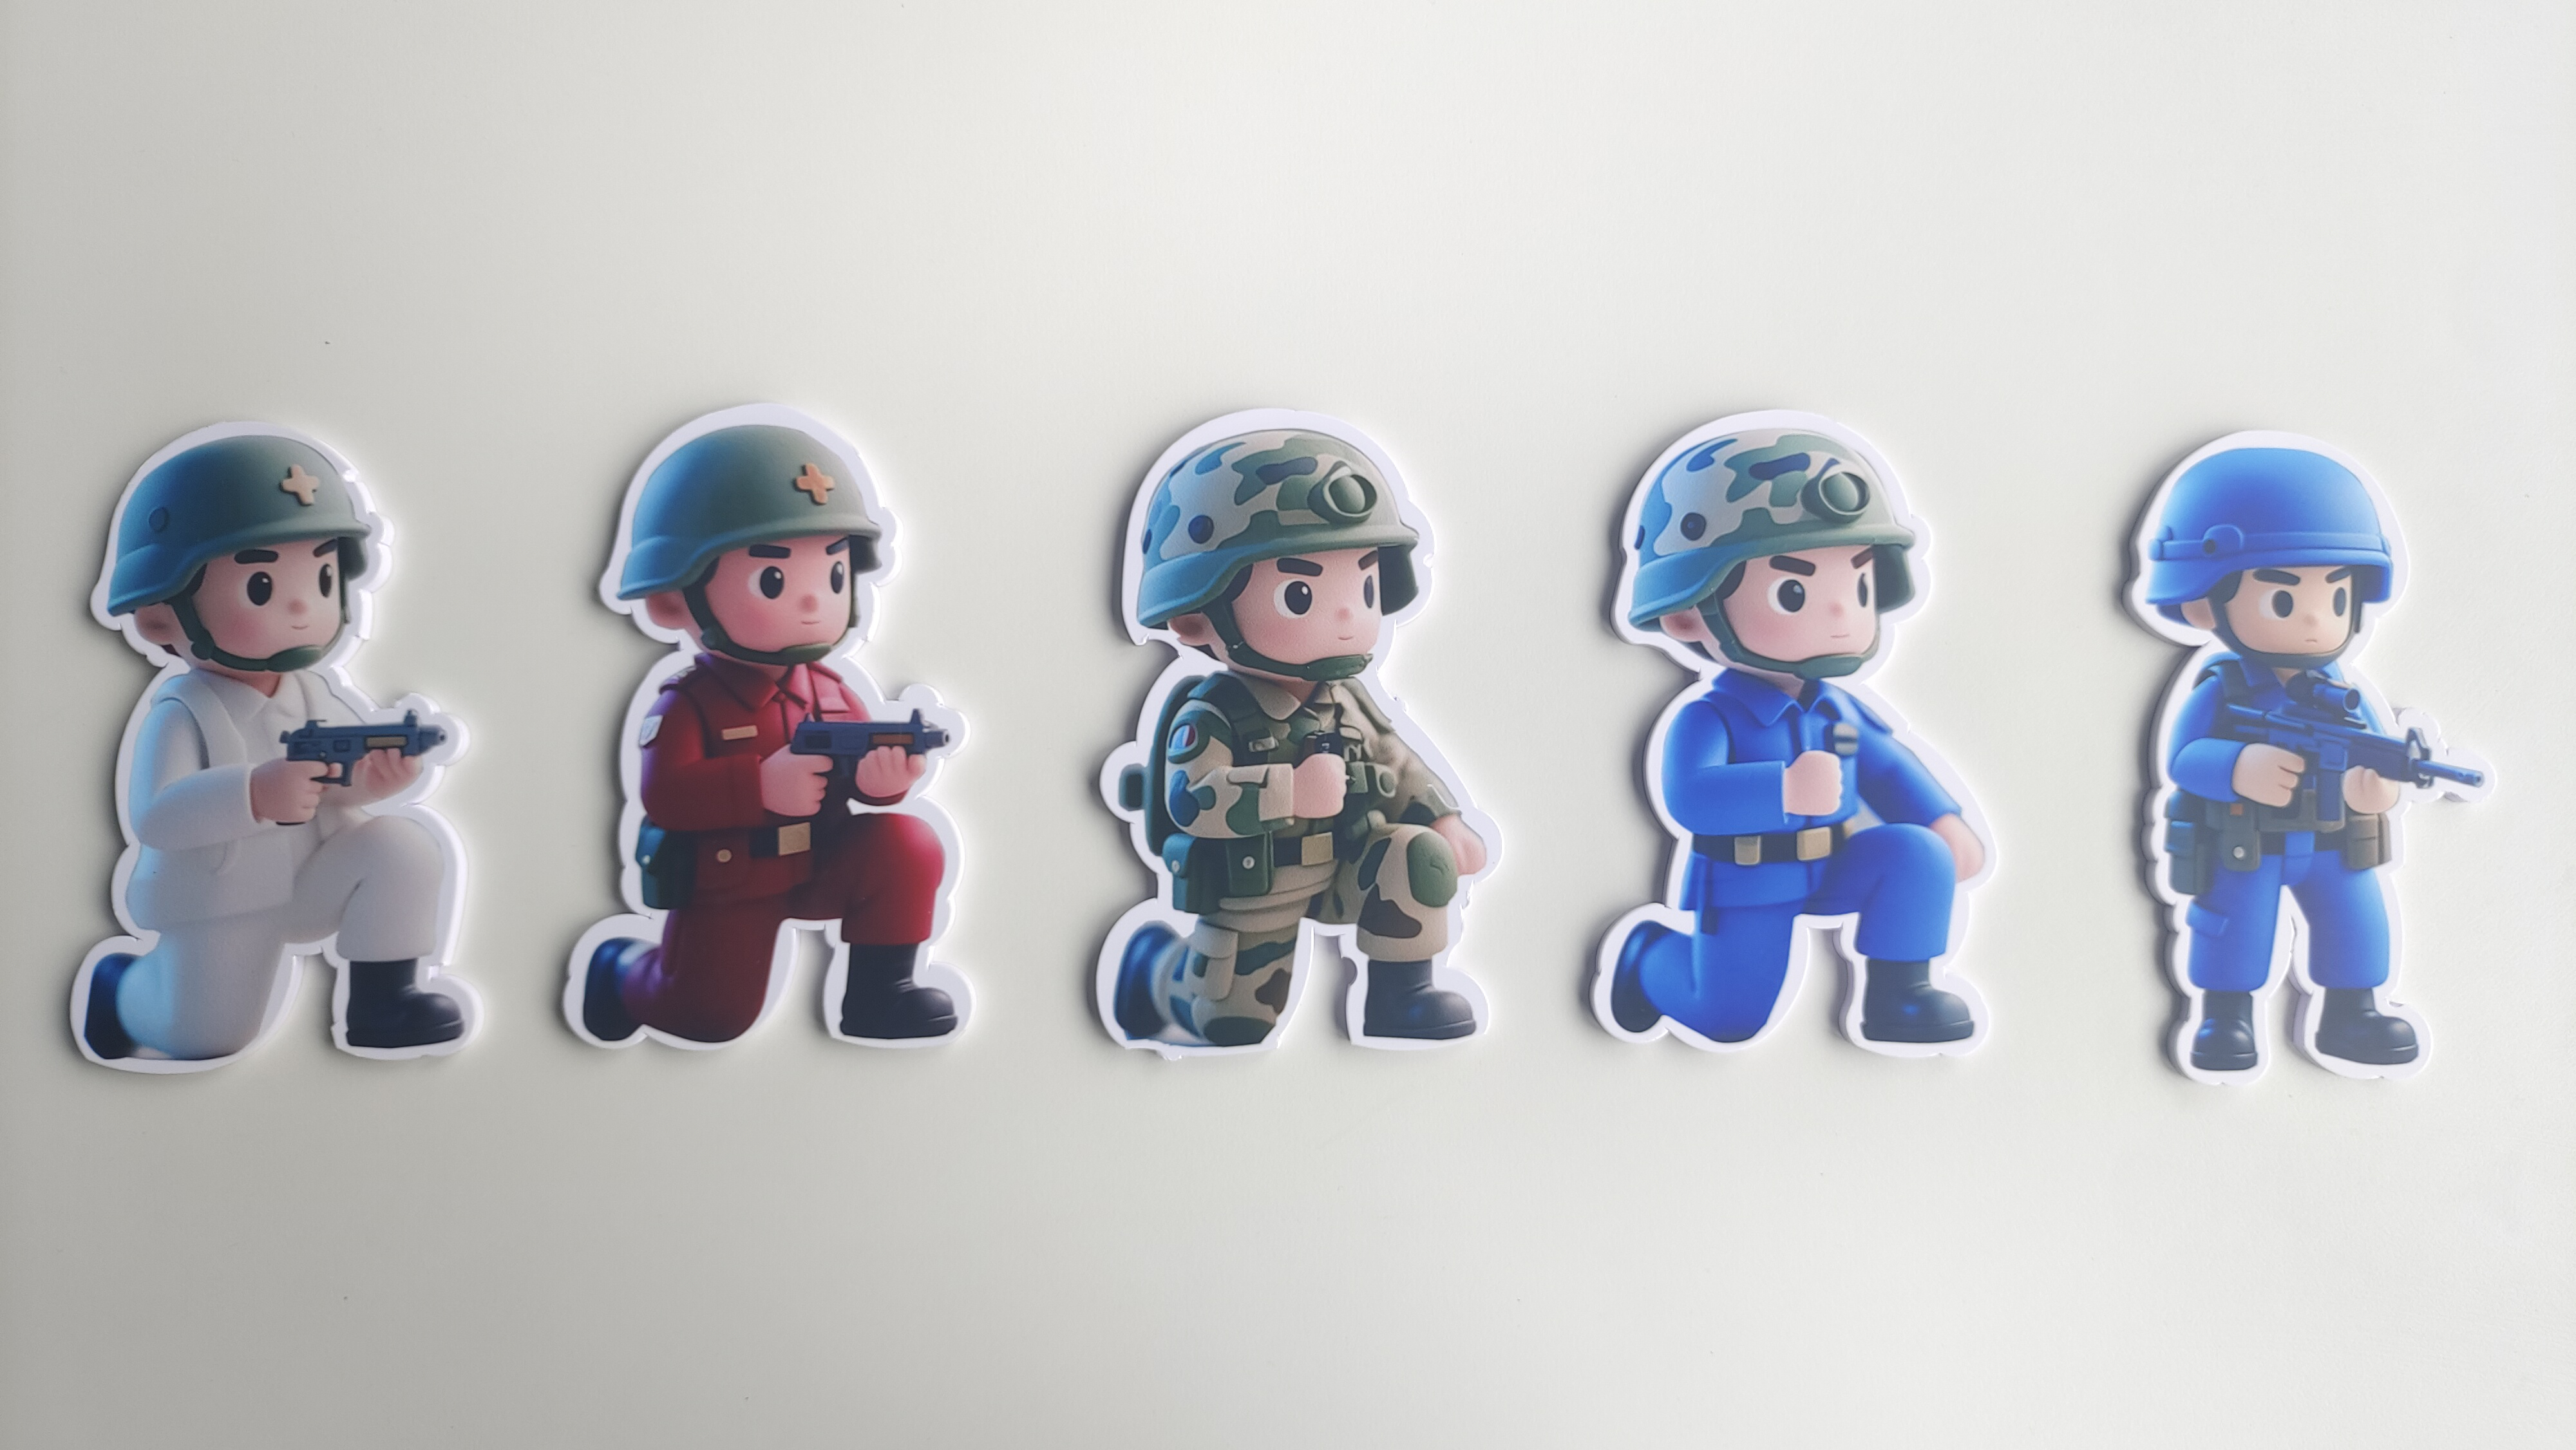enemy1: (556, 667, 989, 1073)
enemy2: (1573, 690, 1997, 1061), (2114, 654, 2463, 1093)
friend: (1074, 677, 1507, 1073)
hostage: (57, 686, 487, 1077)
